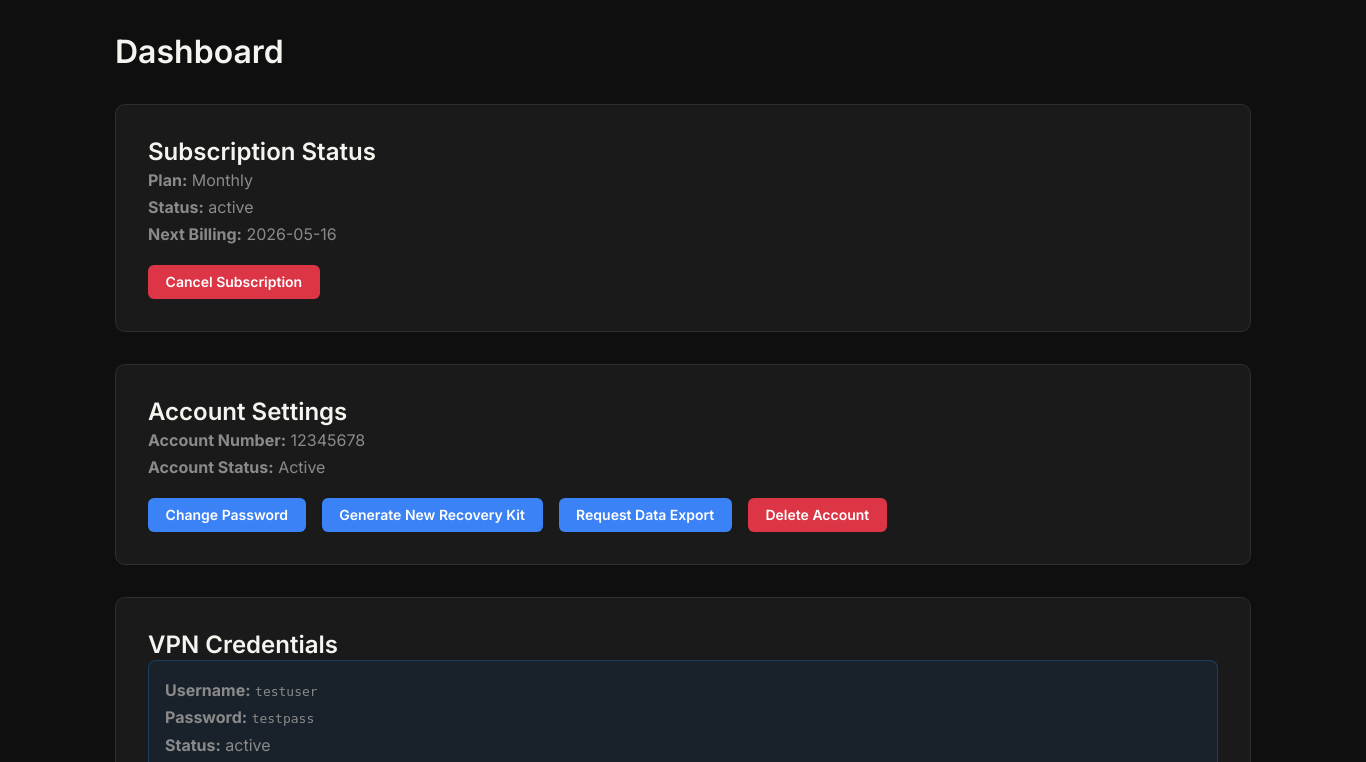
Test: Dashboard Page › shows delete modal when Delete Account clicked
Check: the heading "Account Settings" is shown, box x1=148 y1=397 x2=347 y2=426
Click the button "Delete Account": (817, 515) x1=748 y1=498 x2=887 y2=532
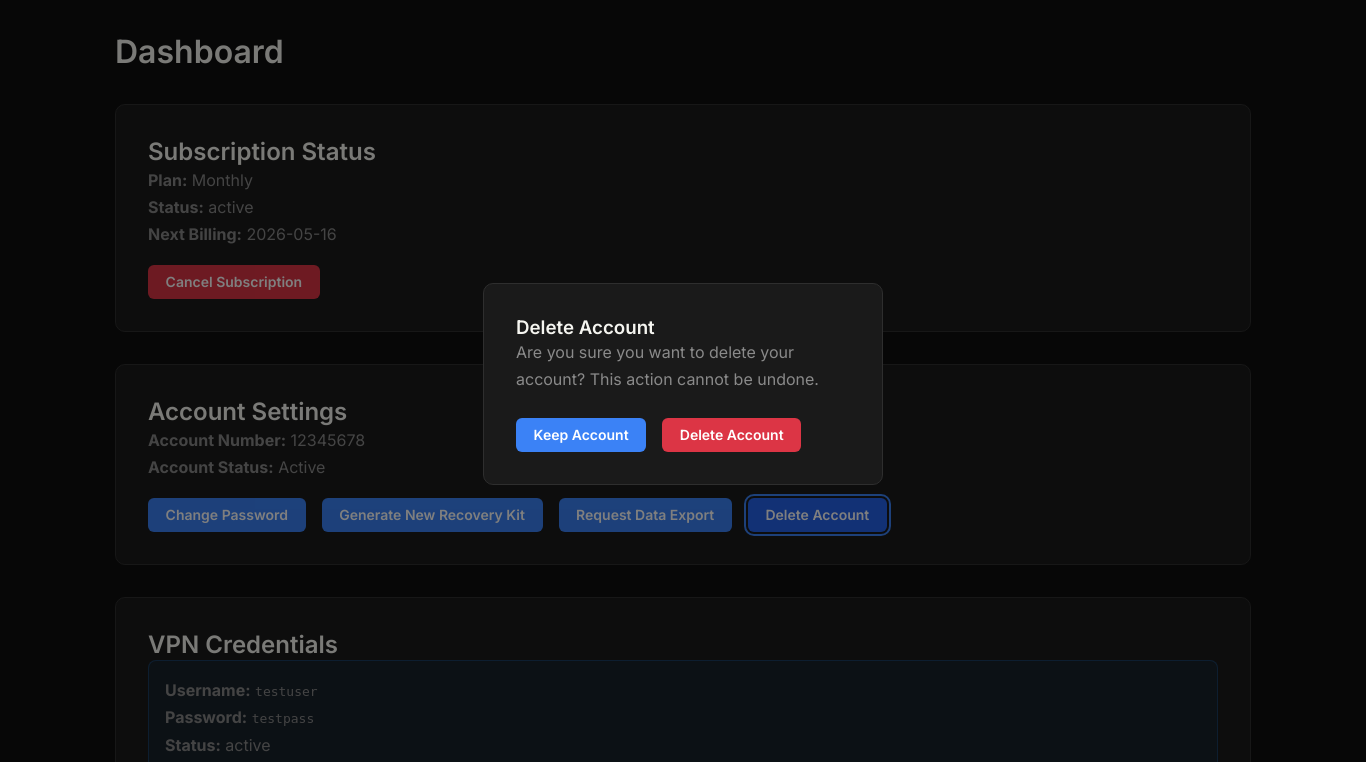
Check: the text "delete your account" is shown, box x1=516 y1=342 x2=819 y2=389
